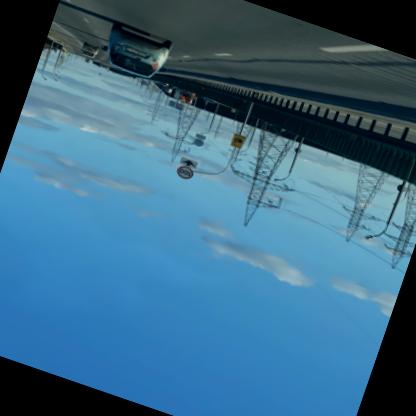speedlimit: (178, 167, 196, 183)
